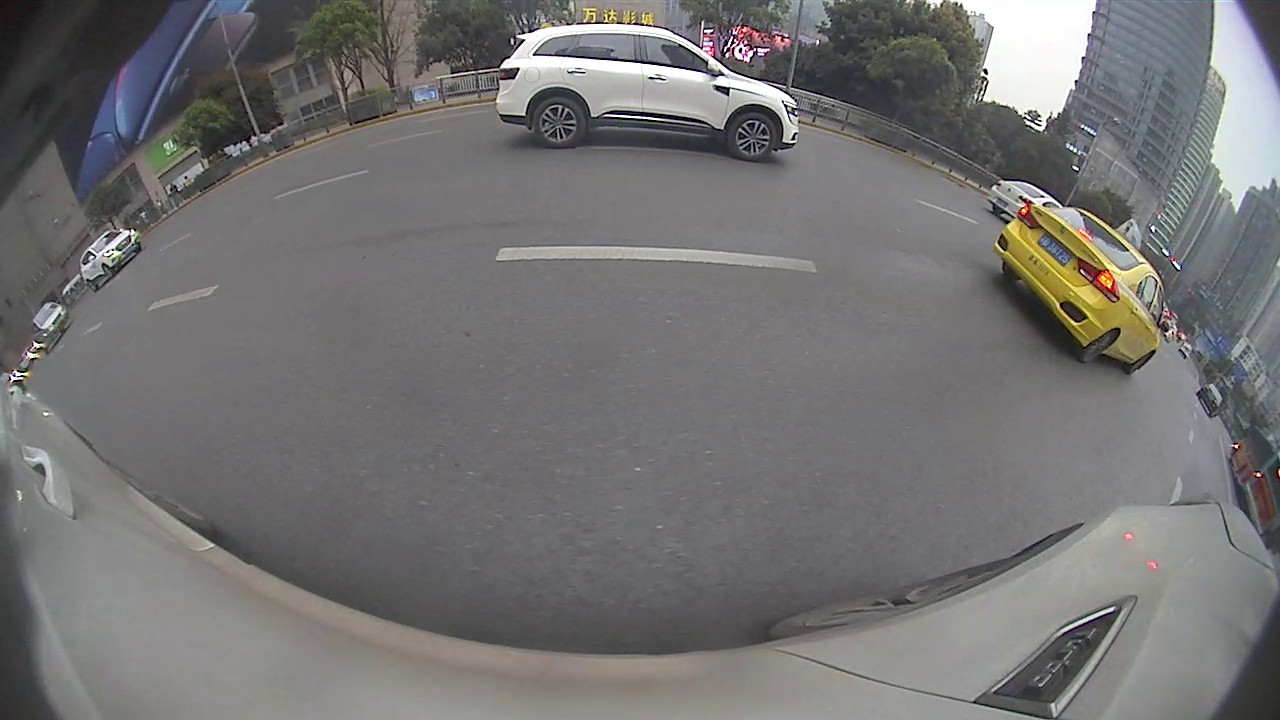car: (493, 22, 802, 165), (992, 205, 1171, 375), (77, 228, 143, 293), (987, 178, 1062, 224)
front: (729, 107, 779, 161), (1127, 351, 1156, 376), (99, 264, 116, 282)
rear: (528, 91, 590, 150), (1080, 329, 1119, 367), (88, 279, 99, 293)
